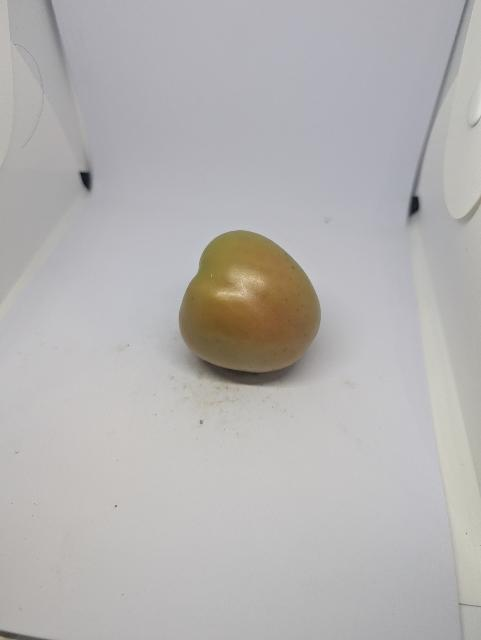breaker: (179, 231, 321, 372)
